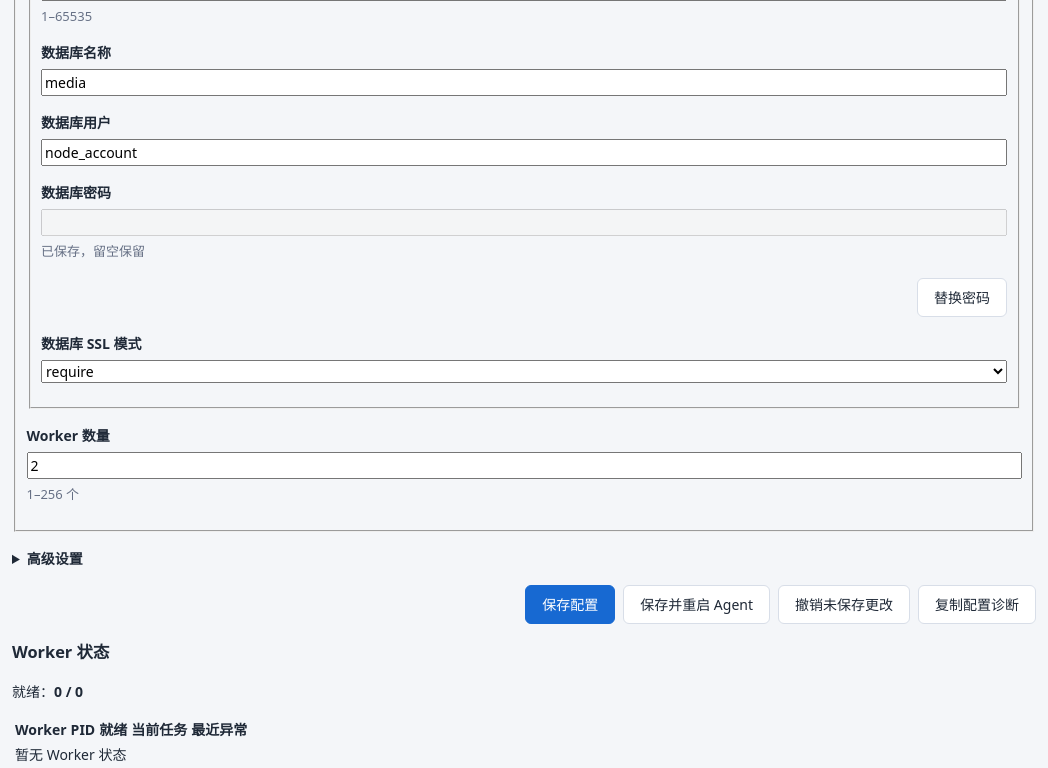
AgentPage › 保存并重启已落盘但停止失败时刷新共享状态并显示错误
The width and height of the screenshot is (1048, 768).
(page scrolled)
Click the button "保存并重启 Agent" at (697, 604), box [623,585,770,624]
(page scrolled)
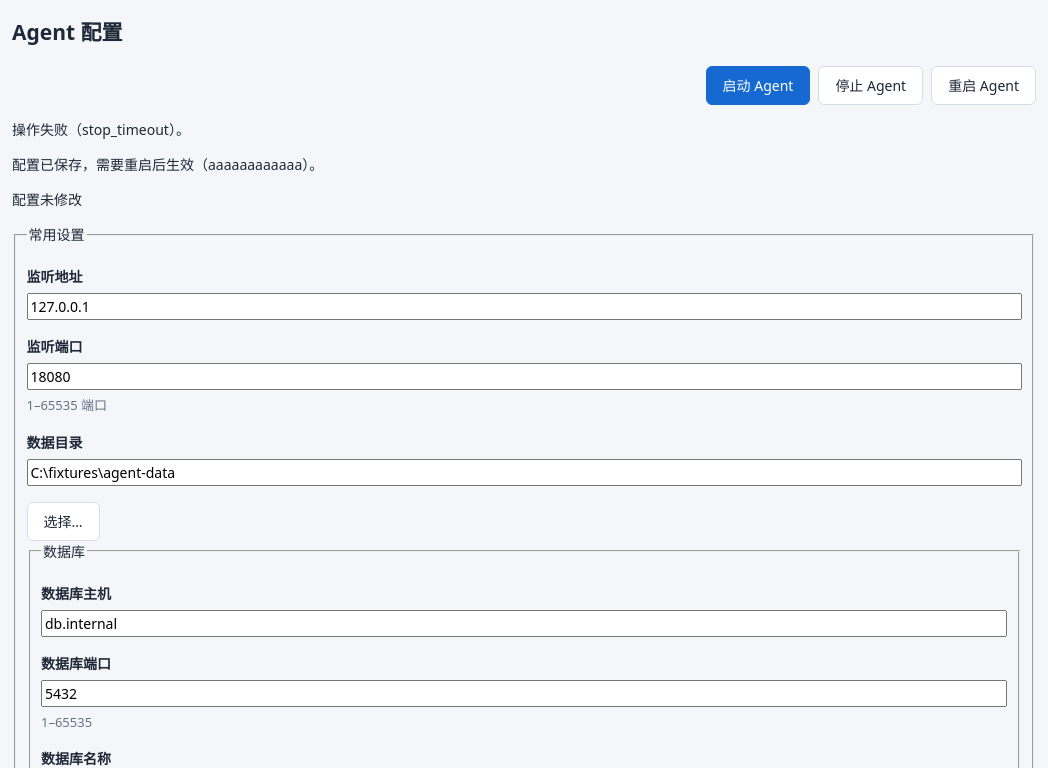
Expected: the message "操作失败（stop_timeout）。" is shown, [12,120,190,139]
Expected: the 2nd message shows "配置已保存，需要重启后生效", [12,155,323,174]
